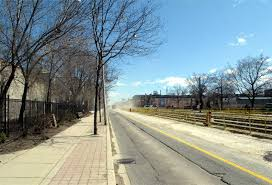strada: (108, 112, 268, 183)
